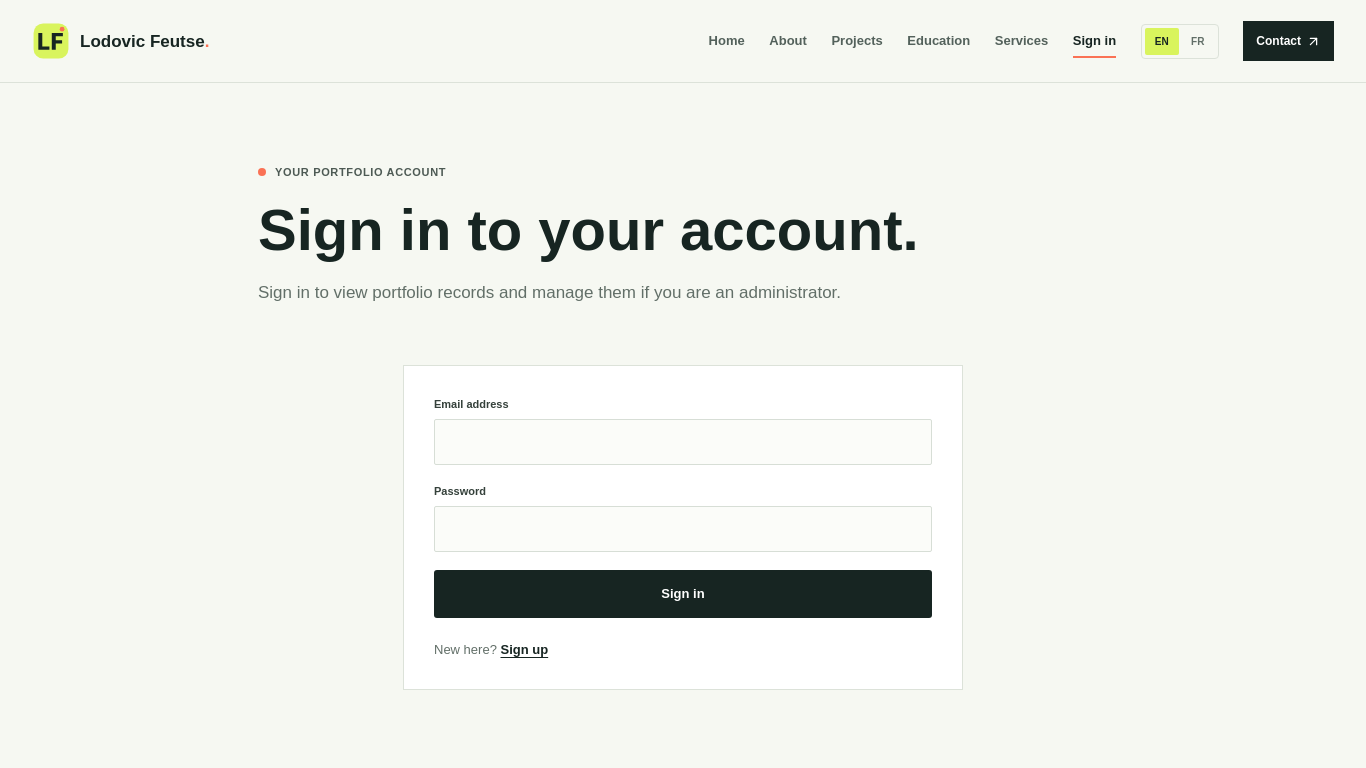
Scenario: authentication and dashboard › shows an incorrect-credentials error without storing a session
The image size is (1366, 768).
In the field labelled "Email address": (683, 442) [434,419,932,465], type "alex@example.test"
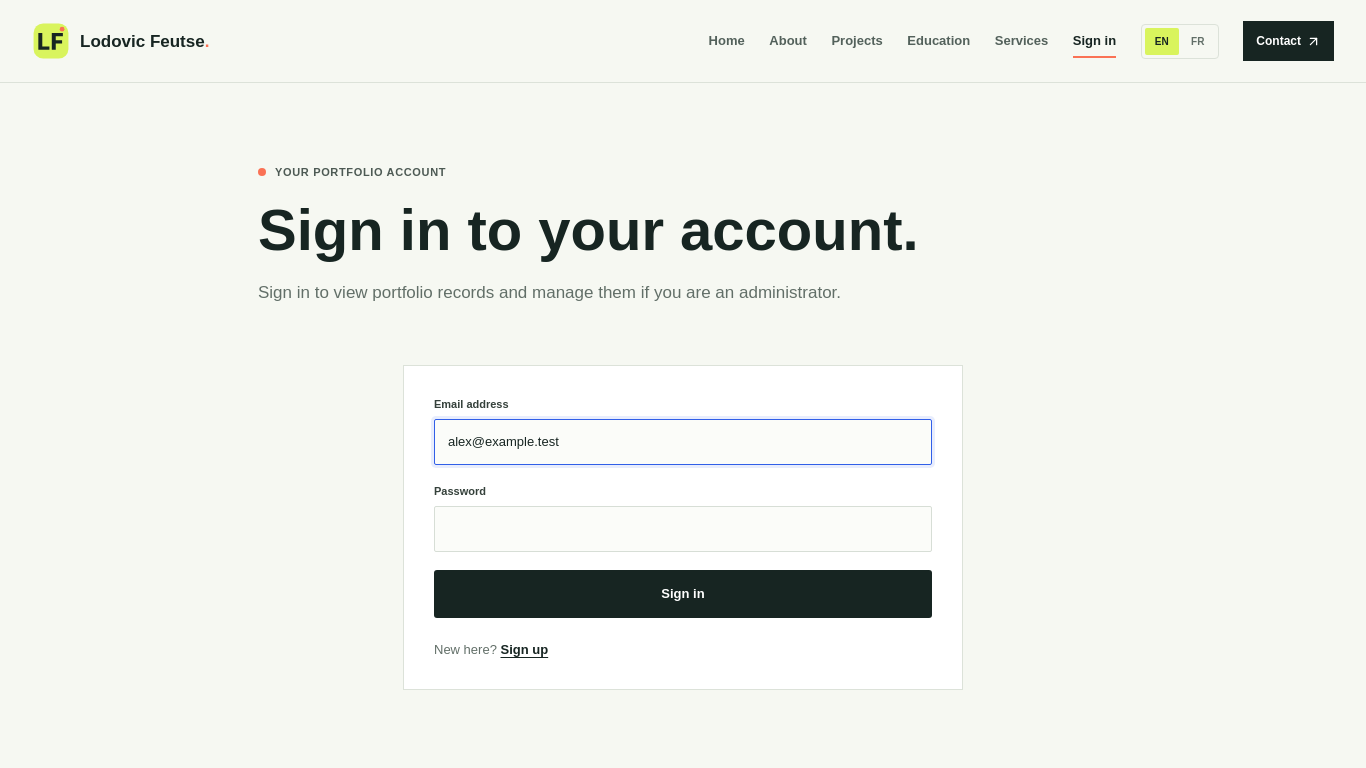
In the password field labelled "Password": (683, 529) [434,506,932,552], type "incorrect"
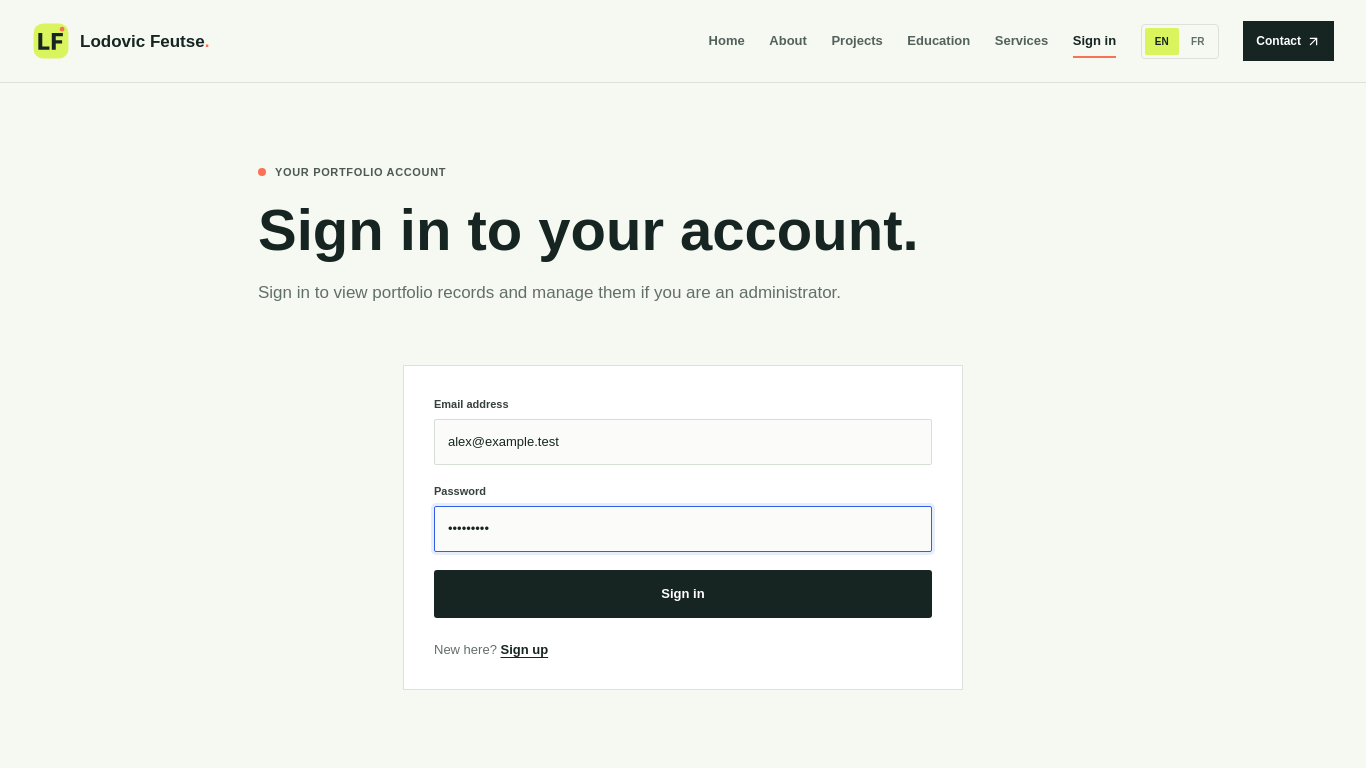
Click the button "Sign in": (683, 594) [434,570,932,618]
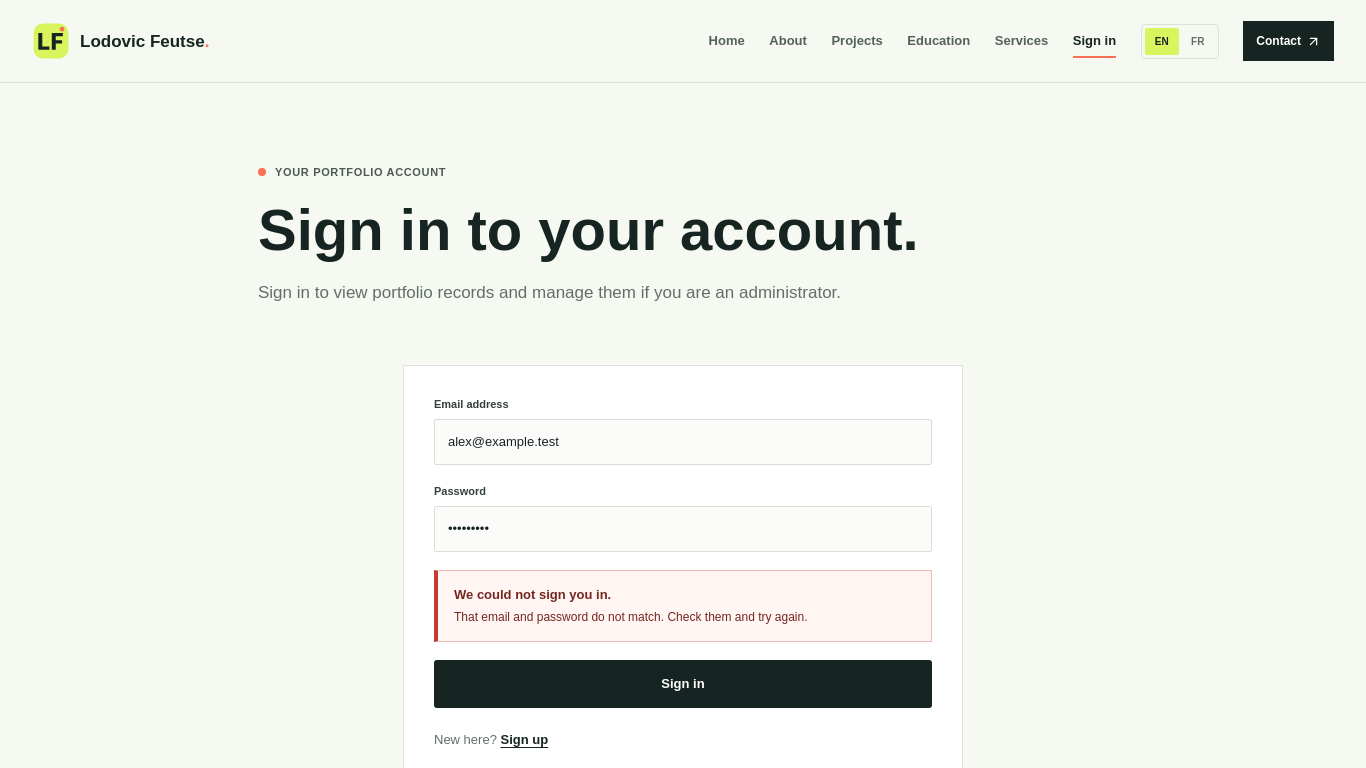
Expected: the message shows "That email and password do not match", [454,610,808,624]
